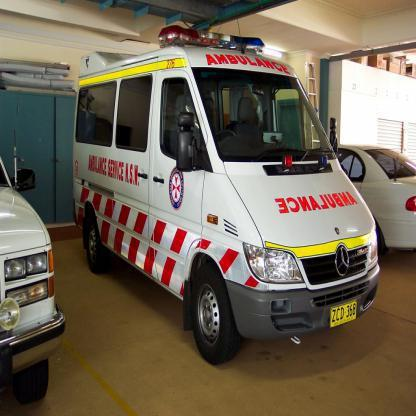Ambulance - v1 Ambulance last generate: (72, 8, 381, 366)
